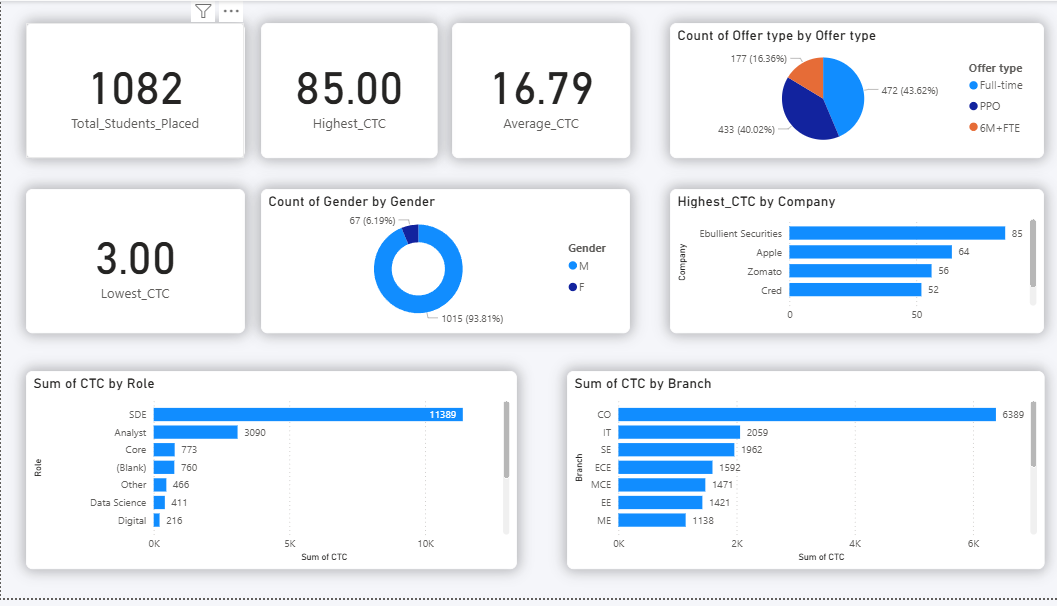

This screenshot's page, from the dashboard's own definition file:
{"tool":"powerbi","page":{"name":"Page 1","canvas":[1280,720],"ordinal":0},"visuals":[{"type":"card","fields":{"Values":["placement_data.Average_CTC"]},"box":[544.4,26.5,215,163.4],"z":0},{"type":"card","fields":{"Values":["placement_data.Highest_CTC"]},"box":[313.9,26.5,213,163.4],"z":1000},{"type":"card","fields":{"Values":["placement_data.Lowest_CTC"]},"box":[30,226.4,263.6,173.6],"z":2000},{"type":"card","fields":{"Values":["placement_data.Total_Students_Placed"]},"box":[29.9,26.5,263.6,163.4],"z":3000},{"type":"donutChart","fields":{"Category":["placement_data.Gender"],"Y":["CountNonNull(placement_data.Gender)"]},"box":[313.6,226.4,445.5,173.6],"z":4000},{"type":"clusteredBarChart","fields":{"Category":["placement_data.Role"],"Y":["Sum(placement_data.CTC)"]},"box":[29.9,445.7,592.3,239.3],"z":5000},{"type":"clusteredBarChart","fields":{"Category":["placement_data.Branch"],"Y":["Sum(placement_data.CTC)"]},"box":[682.5,445.7,575.8,239.3],"z":6000},{"type":"barChart","fields":{"Category":["placement_data.Company"],"Y":["placement_data.Highest_CTC"]},"box":[807.3,226.4,450.9,173.6],"z":7000},{"type":"pieChart","fields":{"Category":["placement_data.Offer type"],"Y":["CountNonNull(placement_data.Offer type)"]},"box":[807,26.5,451.3,163.4],"z":8000}]}

Visuals, with their boxes in screenshot pixels (x1, y1, x2, y2), scaled from the page's 1280x720 canvas onto the 1057x606 screenshot:
card - placement_data.Average_CTC: {"x1": 450, "y1": 22, "x2": 627, "y2": 160}
card - placement_data.Highest_CTC: {"x1": 259, "y1": 22, "x2": 435, "y2": 160}
card - placement_data.Lowest_CTC: {"x1": 25, "y1": 191, "x2": 242, "y2": 337}
card - placement_data.Total_Students_Placed: {"x1": 25, "y1": 22, "x2": 242, "y2": 160}
donutChart - placement_data.Gender x CountNonNull(placement_data.Gender): {"x1": 259, "y1": 191, "x2": 627, "y2": 337}
clusteredBarChart - placement_data.Role x Sum(placement_data.CTC): {"x1": 25, "y1": 375, "x2": 514, "y2": 577}
clusteredBarChart - placement_data.Branch x Sum(placement_data.CTC): {"x1": 564, "y1": 375, "x2": 1039, "y2": 577}
barChart - placement_data.Company x placement_data.Highest_CTC: {"x1": 667, "y1": 191, "x2": 1039, "y2": 337}
pieChart - placement_data.Offer type x CountNonNull(placement_data.Offer type): {"x1": 666, "y1": 22, "x2": 1039, "y2": 160}
